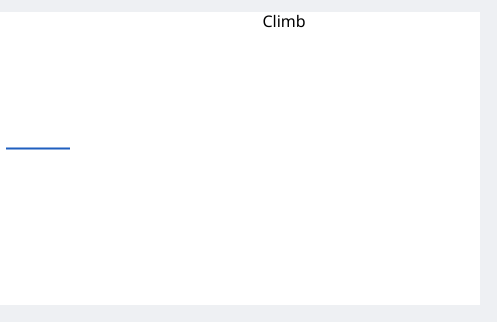
Test: editing a title and a unit › edits a filled title where it is drawn, as one undo step
The image size is (497, 322).
Press the mouse on the field labelled "Climb" at {"x": 284, "y": 21}, box [262,12,306,30]
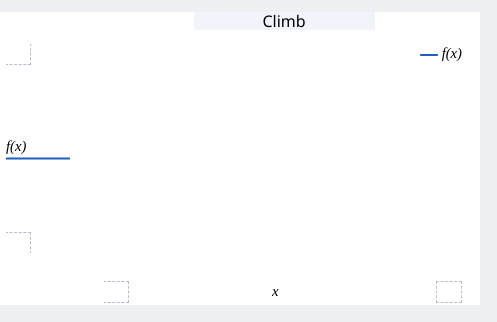
Replace the text in the field named "Plot title" with "Climb rate" at {"x": 284, "y": 21}, box [194,12,374,30]
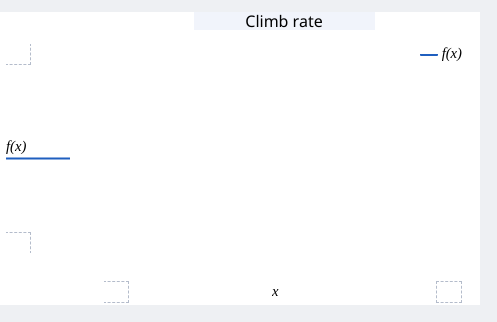
Leave the field named "Plot title", box [194,12,374,30]
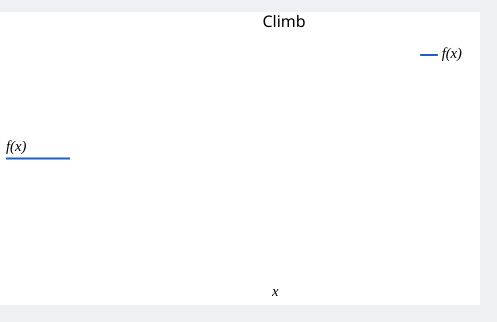
Expected: the field is gone
